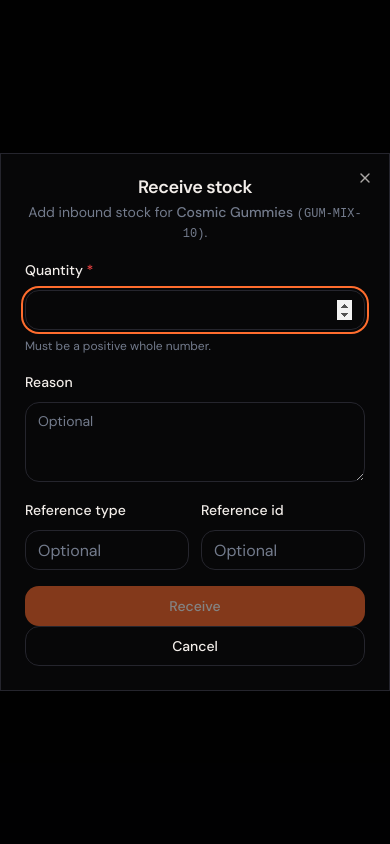
Test: ReceiveStockModal — quantity validation › enables submit when quantity is a positive integer
Type "12" into the number field labelled "Quantity *" at (195, 310), box x1=25 y1=290 x2=365 y2=330
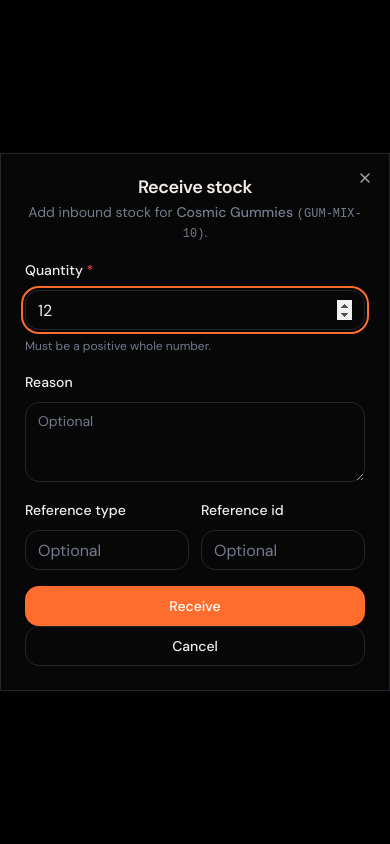
Check: the button with test id "receive-stock-submit" is enabled, box x1=25 y1=586 x2=365 y2=626
